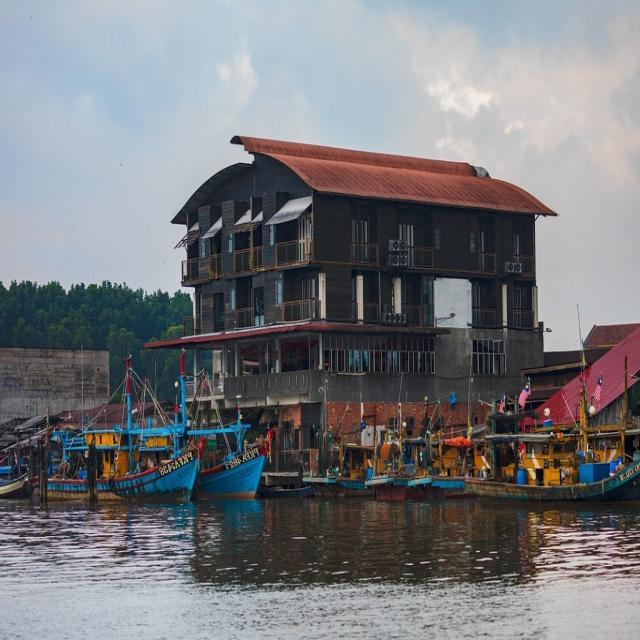boat: (455, 451, 640, 528), (91, 442, 205, 514)
